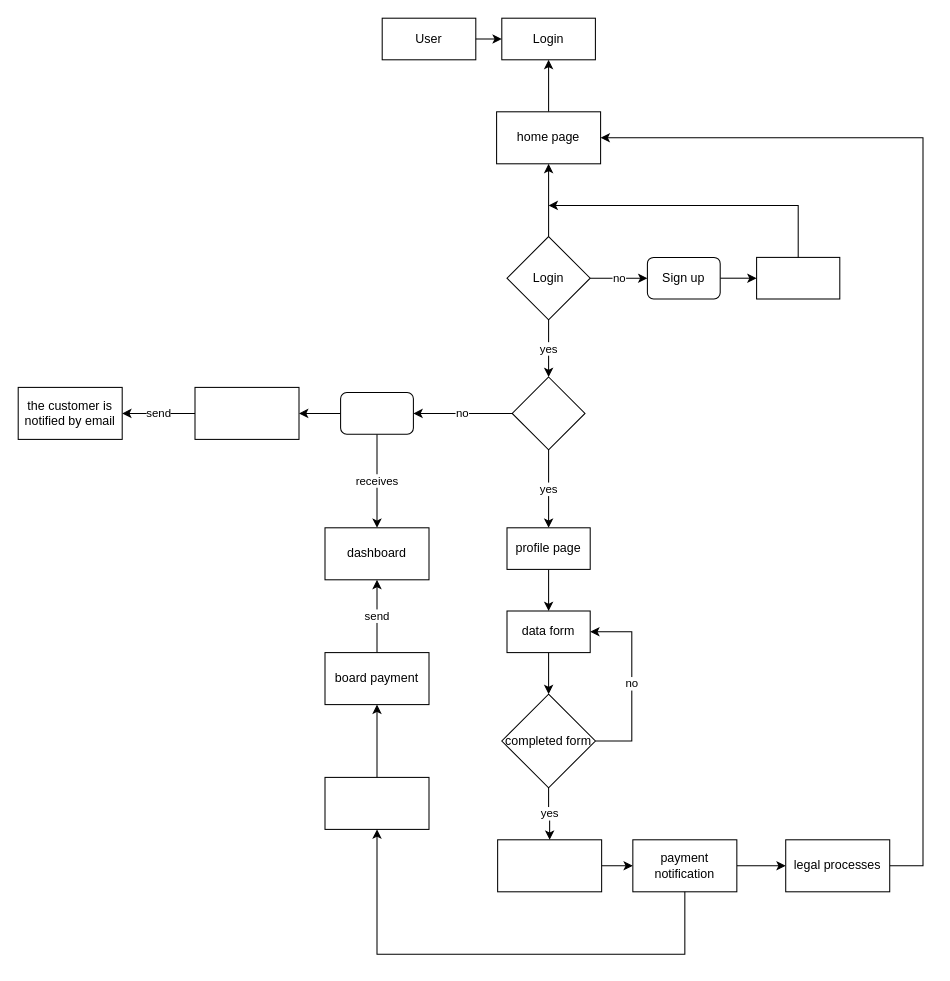
Some shapes in this 950 by 981 pixel diagram are drawn without their labels. The shapes that lost their labels are listed below. From the top down, each one's centre as x and y in pixels, then its label:
At (798,277): "new account form".
At (246,412): "update the process".
At (376,413): "Admin".
At (548,413): "clients".
At (376,802): "new demand".
At (549,865): "payment process".
